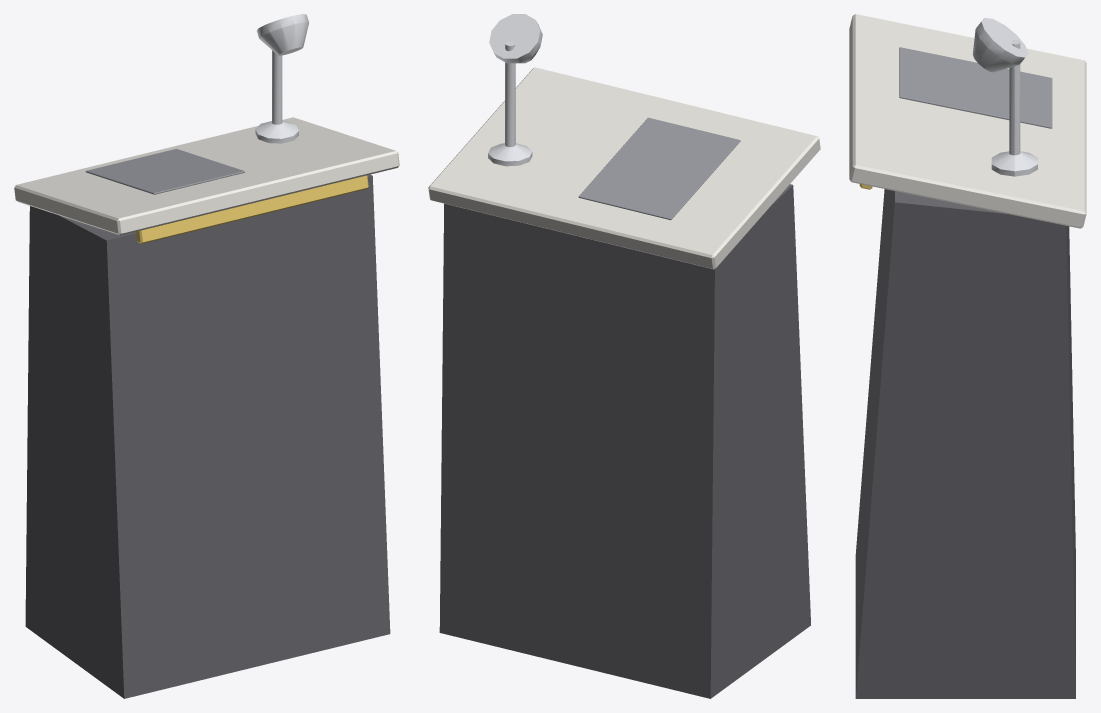
File: nightclub-and-dj-booth-bouncer-podium-2375a6d2__34134.glb
3 views of the same model, side by side, from view 1: azimuth 30°, elevation 25°; view 2: azimuth 150°, elevation 25°; view 3: azimuth 270°, elevation 25° (orthographic). The views are drawn at different scales.
Parts seen in each view (by area): view 1: bouncer-podium; view 2: bouncer-podium; view 3: bouncer-podium.
Part boxes in pixels (x1,y1,x2,y2): bouncer-podium: (14,14,399,698); bouncer-podium: (428,14,820,698); bouncer-podium: (849,14,1086,698).
Size of the model in its own units: 0.74 by 1.48 by 0.4848.
